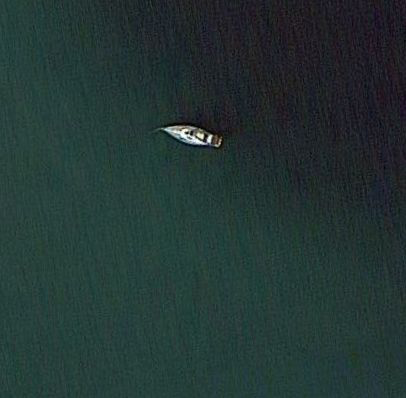boat: (153, 121, 228, 152)
